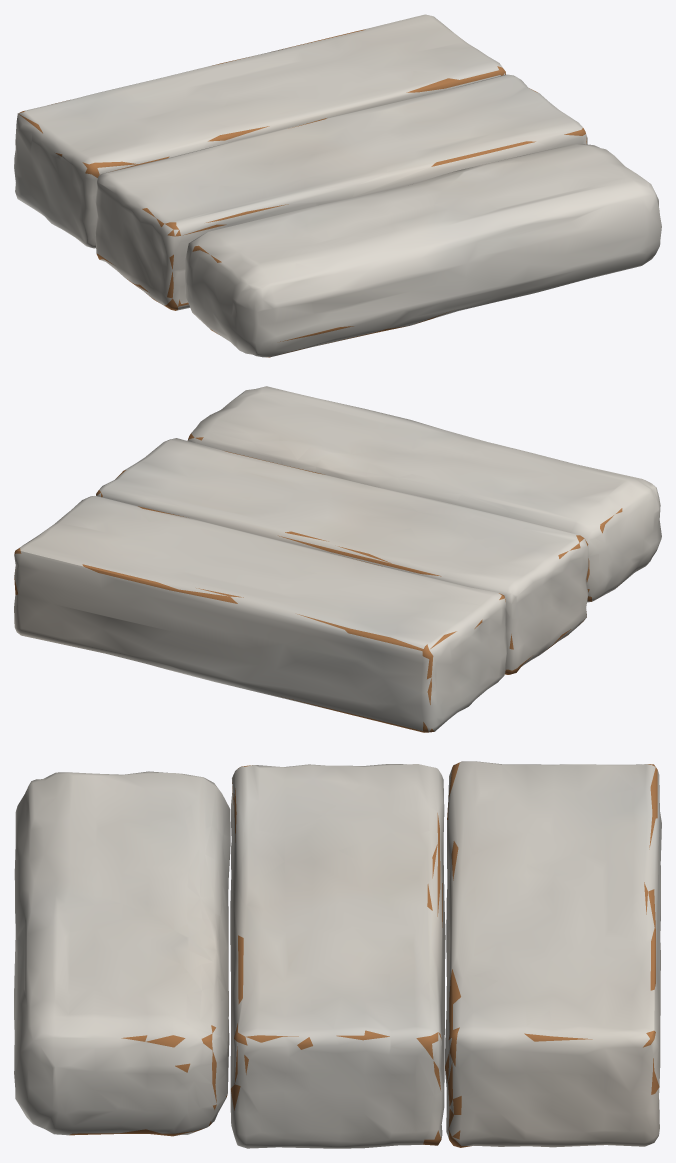
Rendered from frost_sill_ledge.glb.
The picture shows the model from 3 angles, top to bottom: view 1: azimuth 30°, elevation 25°; view 2: azimuth 150°, elevation 25°; view 3: azimuth 270°, elevation 25°; orthographic projection. The views are drawn at different scales.
Parts seen in each view (by area): view 1: frost_sill_ledge; view 2: frost_sill_ledge; view 3: frost_sill_ledge.
Boxes of the visible parts, bbox=[...] form: frost_sill_ledge: bbox=[14, 14, 661, 357]; frost_sill_ledge: bbox=[14, 386, 661, 732]; frost_sill_ledge: bbox=[14, 761, 661, 1148].
Bounding box in the file's own units: 20.14 × 4.25 × 20.02.
